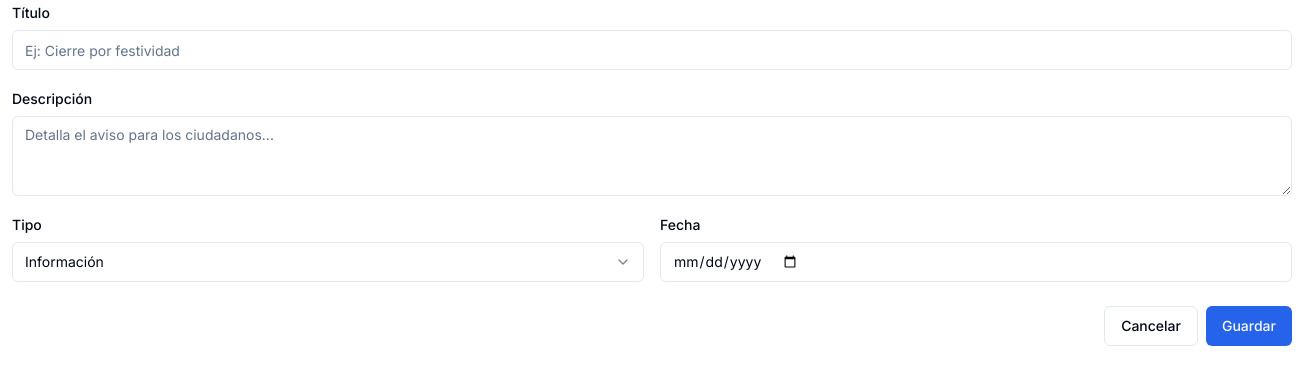
Test: FormularioAviso › debería mostrar error si se envía sin fecha
// Rellenar título y descripción pero dejar fecha vacía
Type "Título de prueba" into the field labelled "Título".
click(652, 50); type("Título de prueba")  # box [12,30,1292,70]
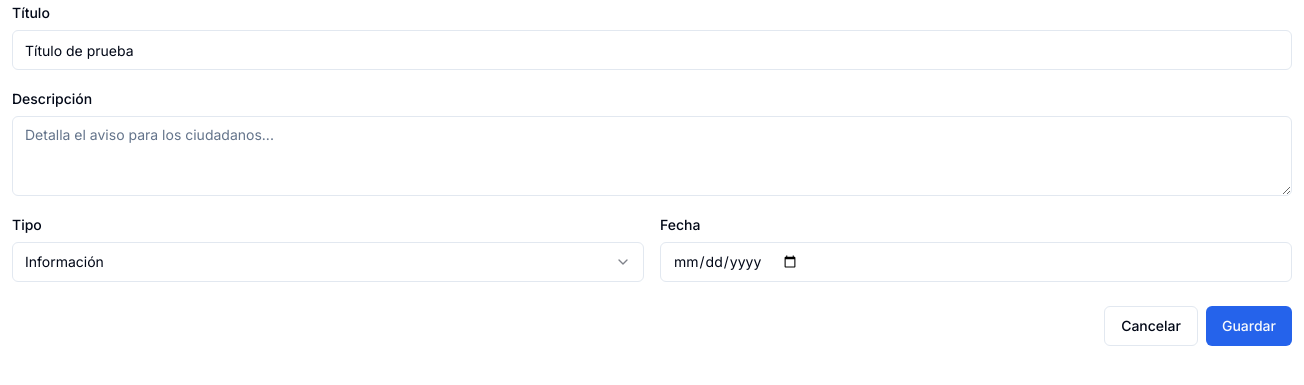
Type "Descripción de prueba" into the text box labelled "Descripción".
click(652, 156); type("Descripción de prueba")  # box [12,116,1292,196]
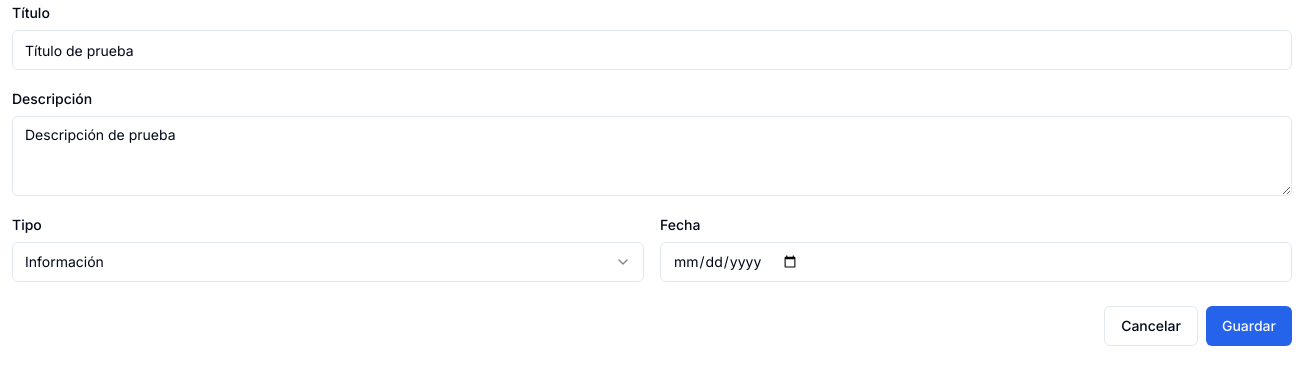
Click the button "Guardar".
click(1249, 326)  # box [1206,306,1292,346]
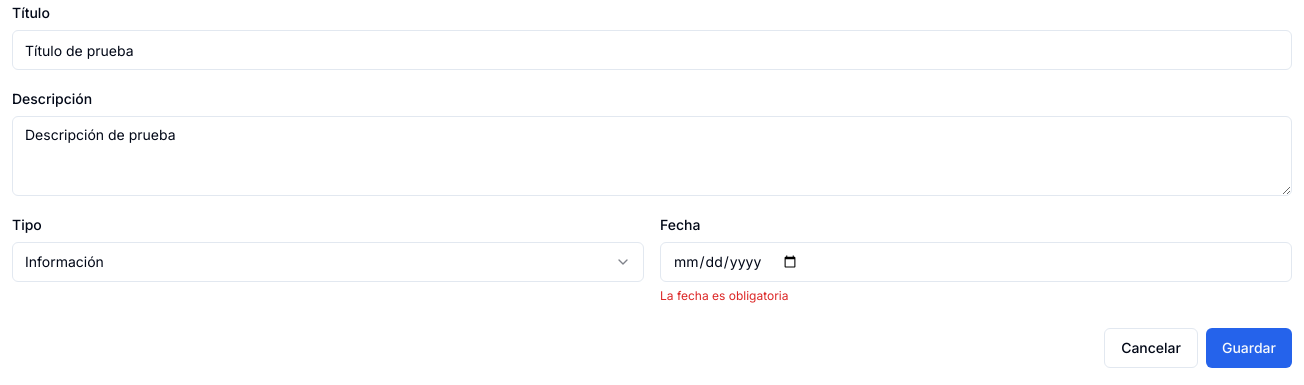
Result: the text "La fecha es obligatoria" is shown at [660,288,788,303]
